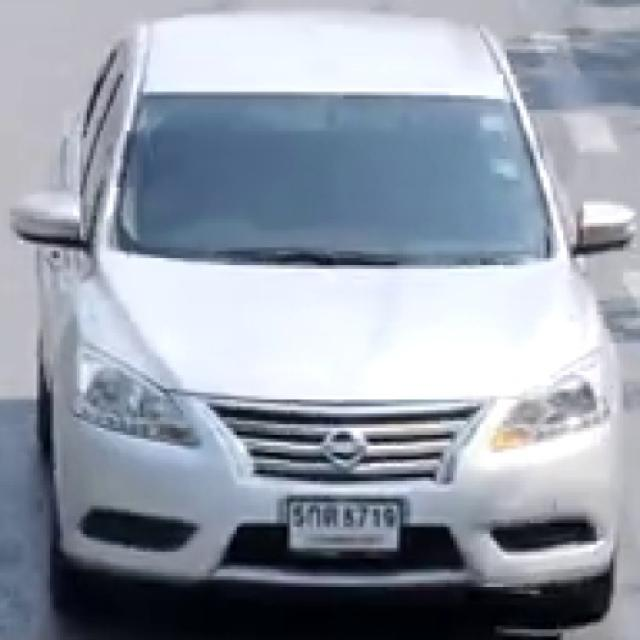plate: (286, 496, 402, 554)
